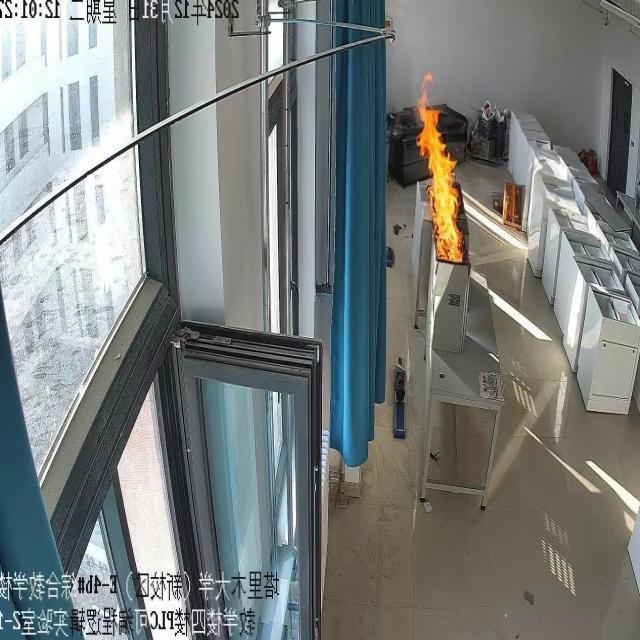smoke: (416, 73, 466, 267)
